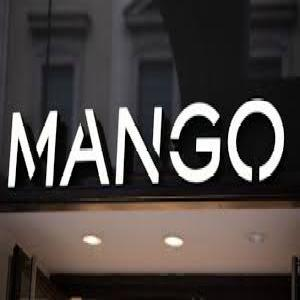mango: (4, 99, 297, 198)
